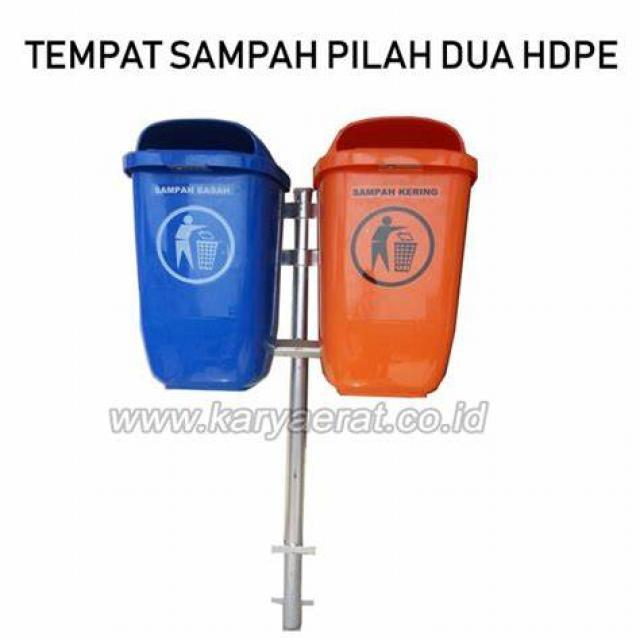garbage container: (85, 100, 296, 410), (320, 104, 493, 410)
